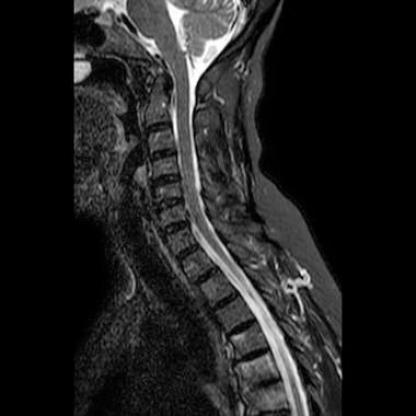Disc Bulgerotation: (153, 194, 187, 212), (147, 173, 181, 188), (160, 221, 190, 236)
